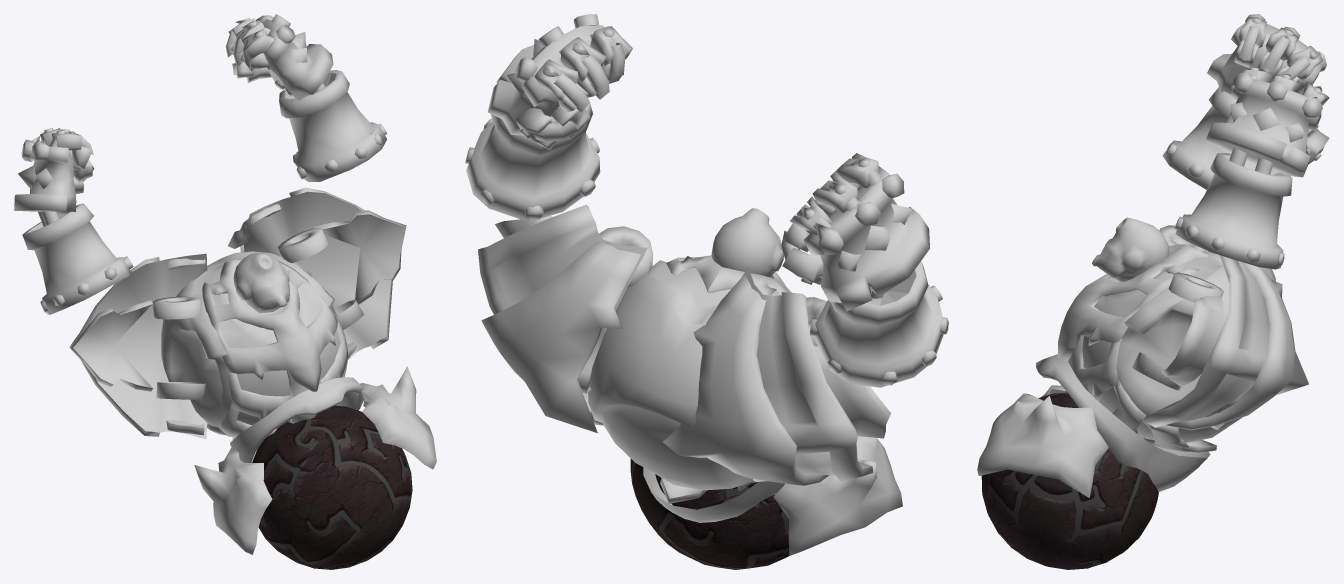
File: Attack01 (20).obj
3 renders of one model, left to right at view 1: azimuth 30°, elevation 25°; view 2: azimuth 150°, elevation 25°; view 3: azimuth 270°, elevation 25°, orthographic. The views are drawn at different scales.
Visible parts, largest first — view 1: ironreaver01; view 2: ironreaver01; view 3: ironreaver01.
Boxes of the visible parts, x1,y1,x2,y2 form: ironreaver01: (14, 14, 436, 569); ironreaver01: (465, 14, 948, 569); ironreaver01: (977, 14, 1329, 569).
Size of the model in its own units: 1.63 by 2.05 by 1.29.
